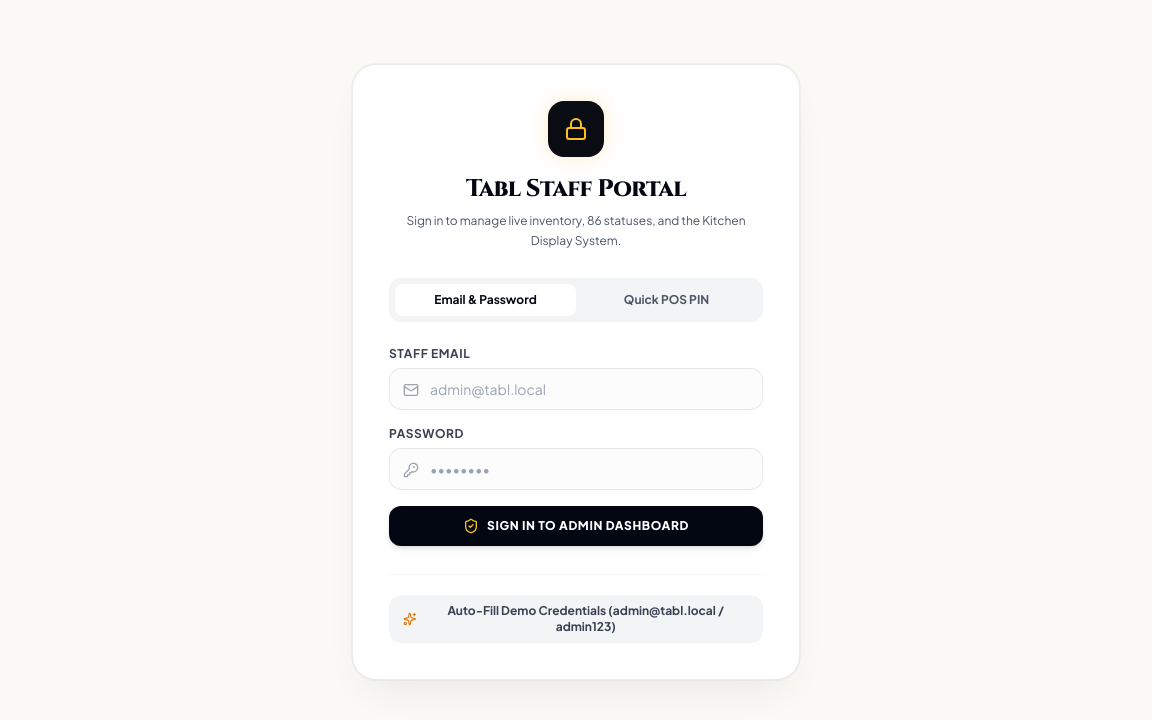
Test: Validated Forms: Chat Input & Admin Login › Admin Login Form Validation › supports quick PIN mode authentication with validation
# Switch to PIN mode
Click the button "Quick POS PIN" at (666, 300), box [576,284,757,316]
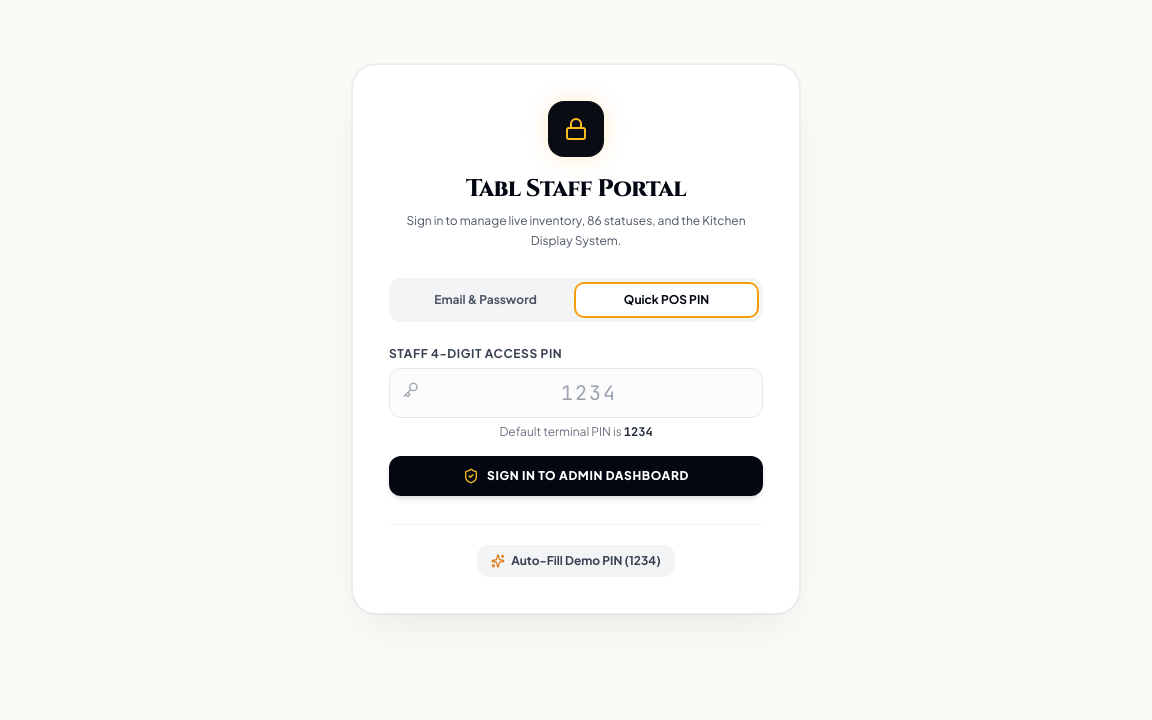
Type "1234" into the password field labelled "Staff 4-Digit Access PIN" at (576, 393), box [389,368,763,418]
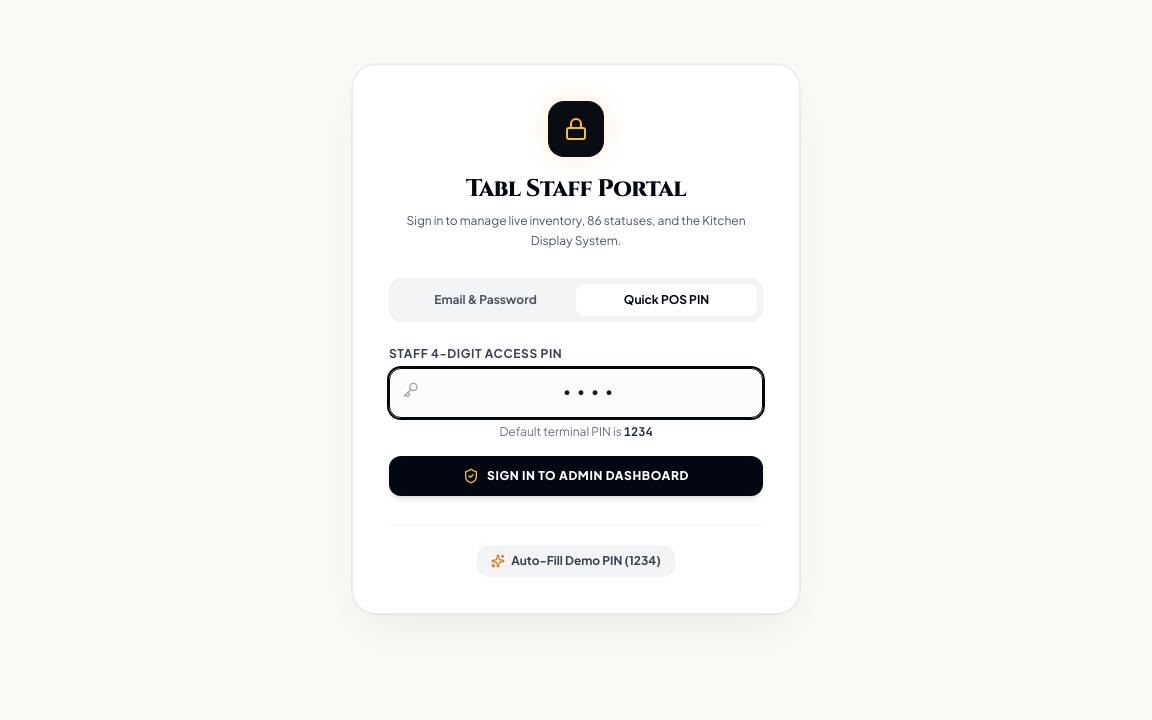
Click the button "Sign In to Admin Dashboard" at (576, 476), box [389,456,763,496]
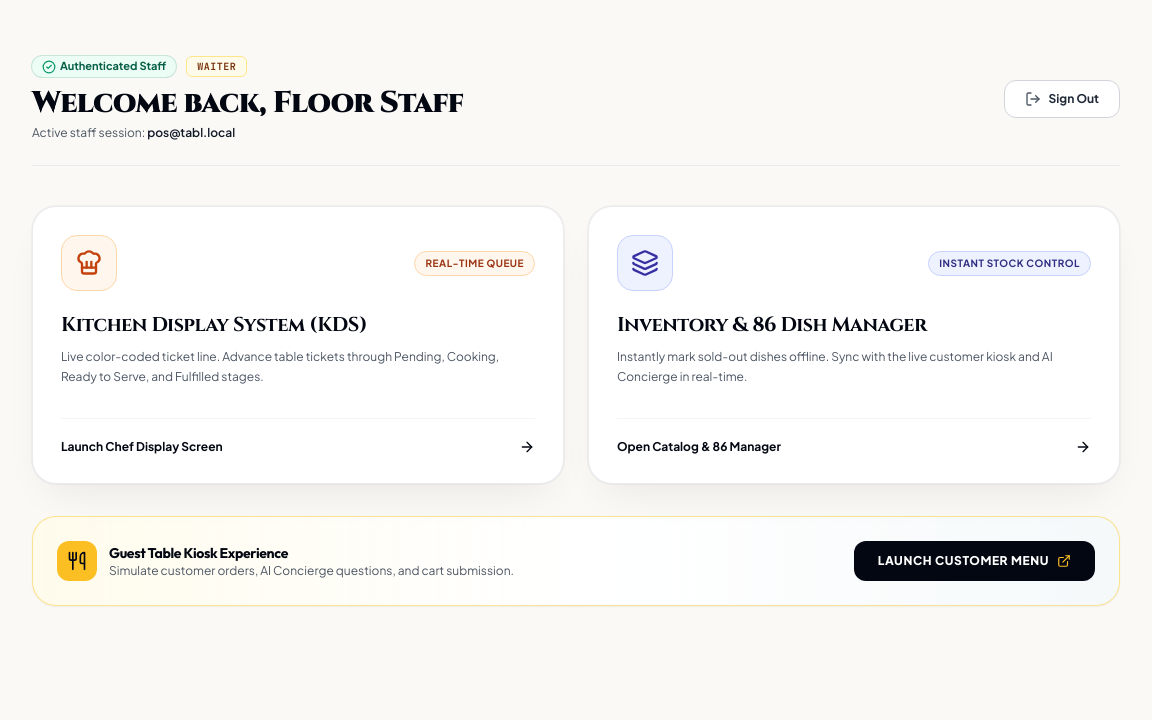
expect the heading "Welcome back, Floor Staff" is shown: met, box [32,85,463,121]
